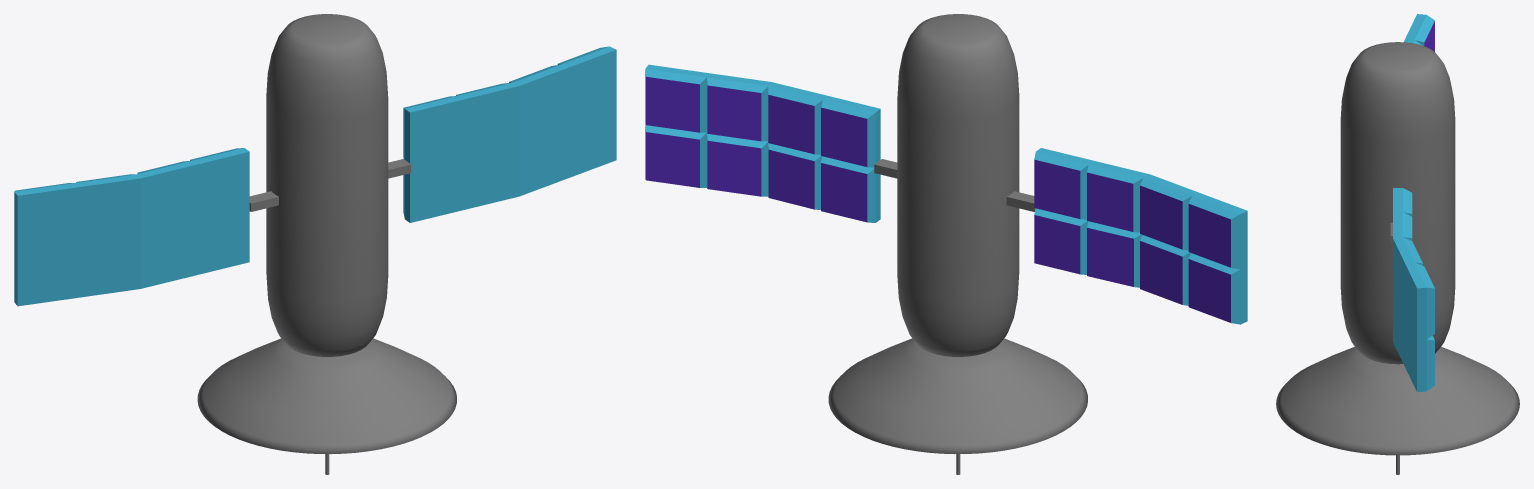
Rendered from Satellite.fbx.
3 renders of one model, left to right at view 1: azimuth 30°, elevation 25°; view 2: azimuth 150°, elevation 25°; view 3: azimuth 270°, elevation 25°, orthographic. The views are drawn at different scales.
Visible parts, largest first — view 1: Cylinder; view 2: Cylinder; view 3: Cylinder.
Part boxes in pixels (x1=…): Cylinder: x1=14, y1=14, x2=616, y2=474; Cylinder: x1=645, y1=14, x2=1247, y2=474; Cylinder: x1=1276, y1=14, x2=1519, y2=474.
Bounding box in the file's own units: 1134 × 805 × 426.
